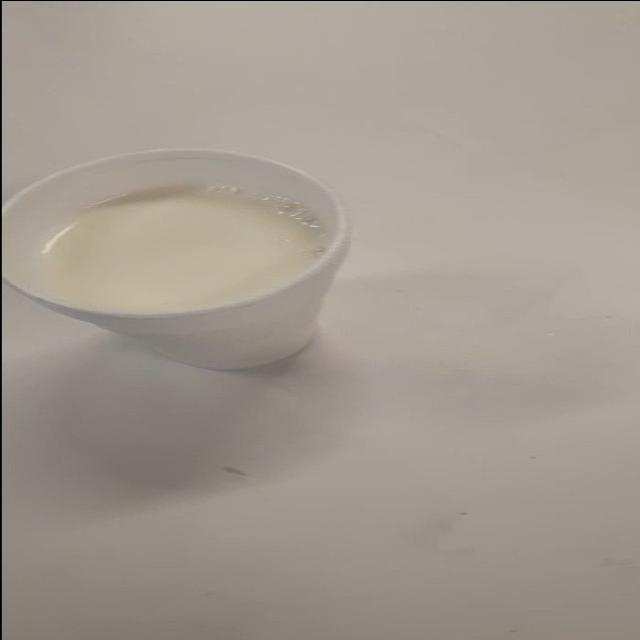Milk: (0, 128, 369, 400)
